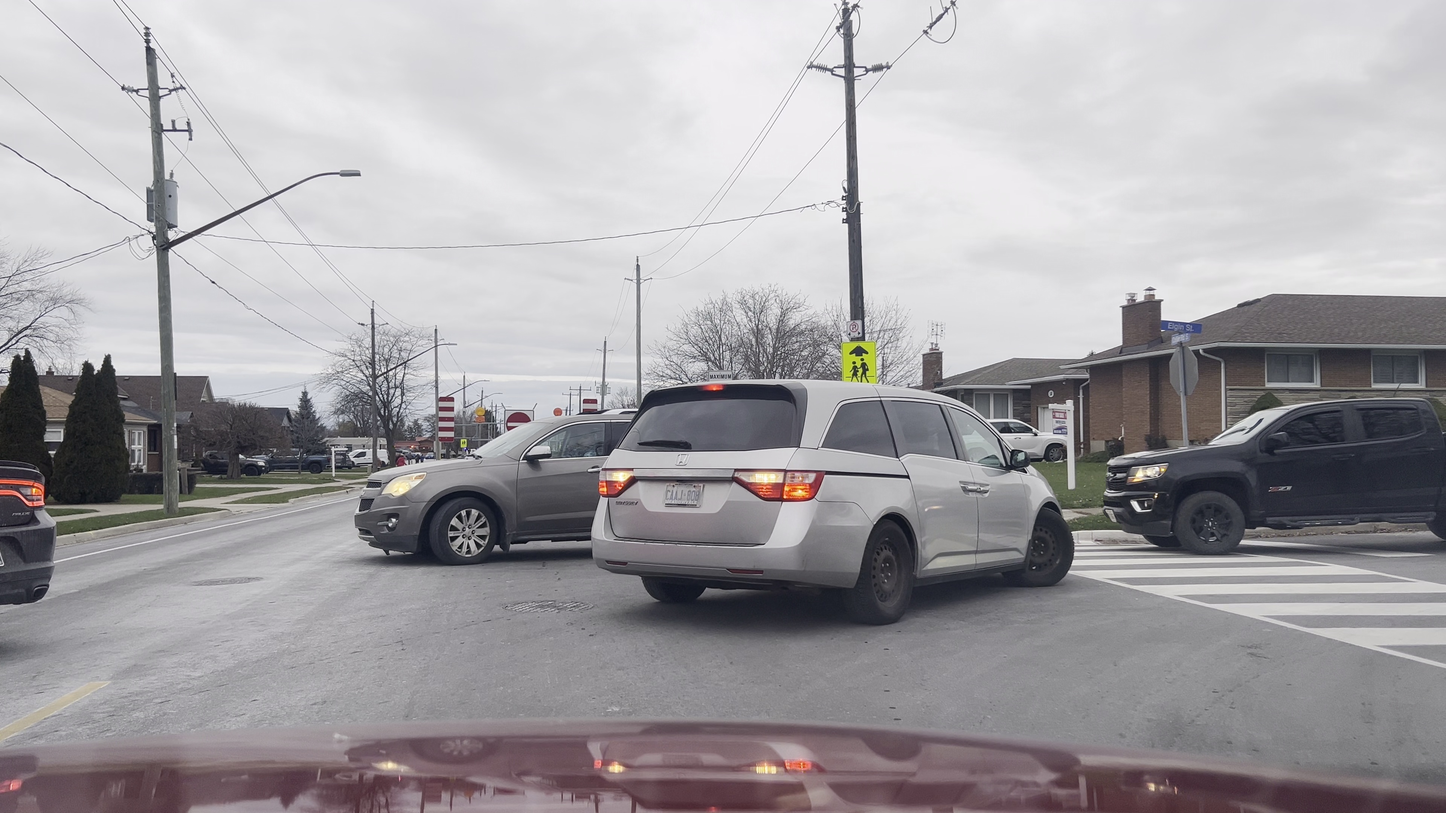construction: (428, 383, 611, 478)
